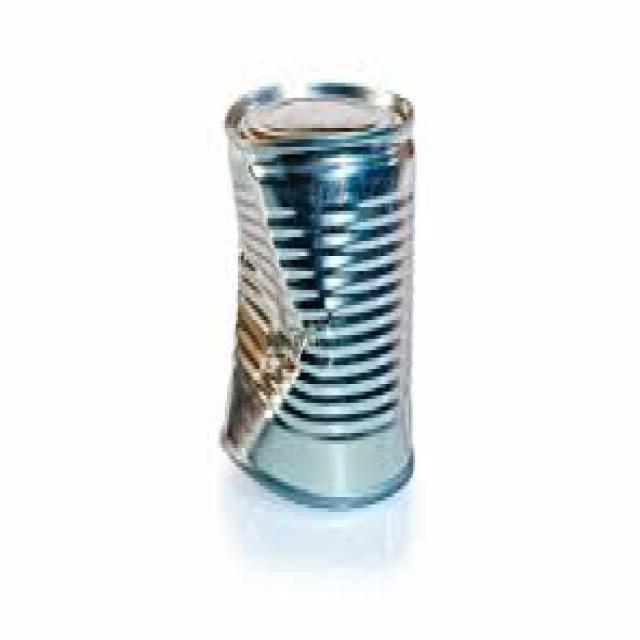metal-can: (221, 76, 415, 508)
